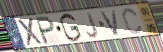C: (122, 7, 144, 36)
G: (59, 12, 83, 43)
J: (86, 12, 100, 39)
P: (35, 14, 56, 45)
V: (100, 9, 121, 38)
X: (15, 17, 45, 47)
